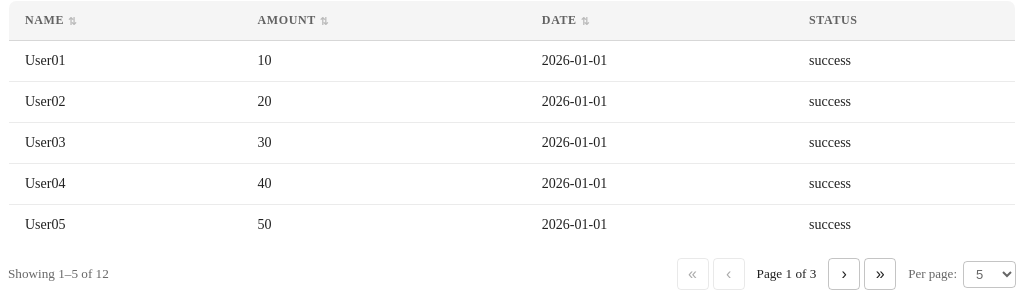
Test: DataTable — pagination › navigates to previous page
Click the button named "next page" at {"x": 844, "y": 274}, box x1=828 y1=258 x2=860 y2=290
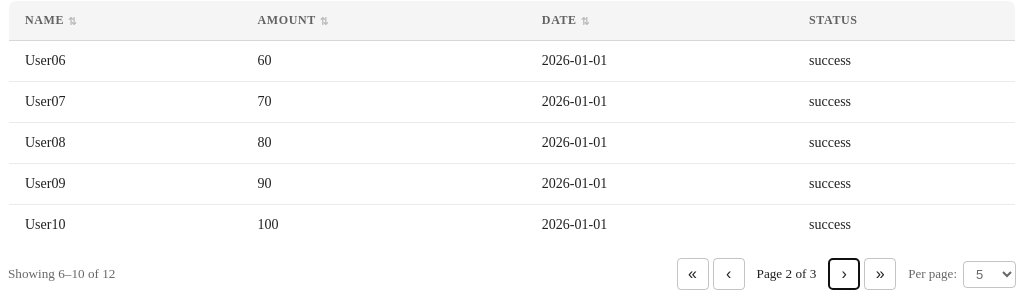
Click the button named "previous page" at {"x": 728, "y": 274}, box x1=712 y1=258 x2=744 y2=290
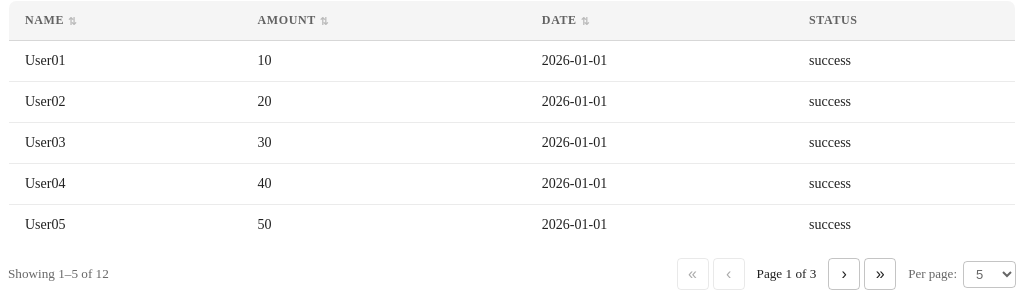
expect the text "Page 1 of 3" is shown: met, box x1=756 y1=266 x2=816 y2=281
expect the text "User01" is shown: met, box x1=8 y1=40 x2=242 y2=82
